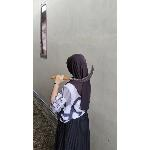Celurit: (50, 62, 96, 82)
